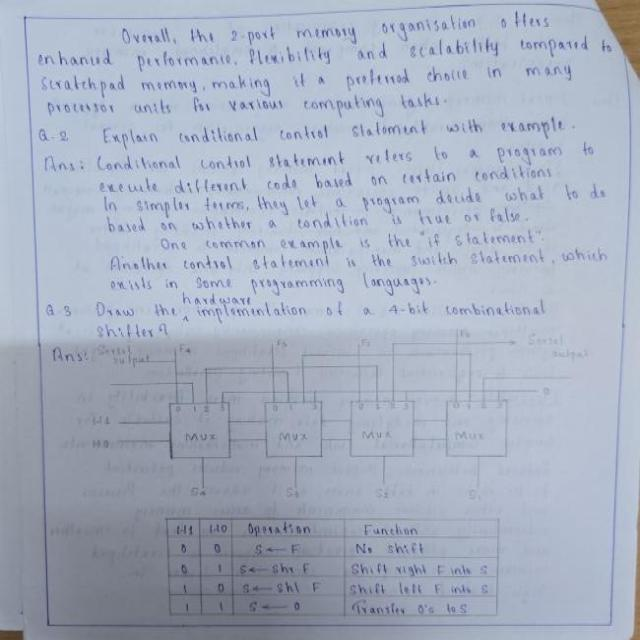Figure Detection - v3 Dataset Version2: (69, 330, 586, 502)
